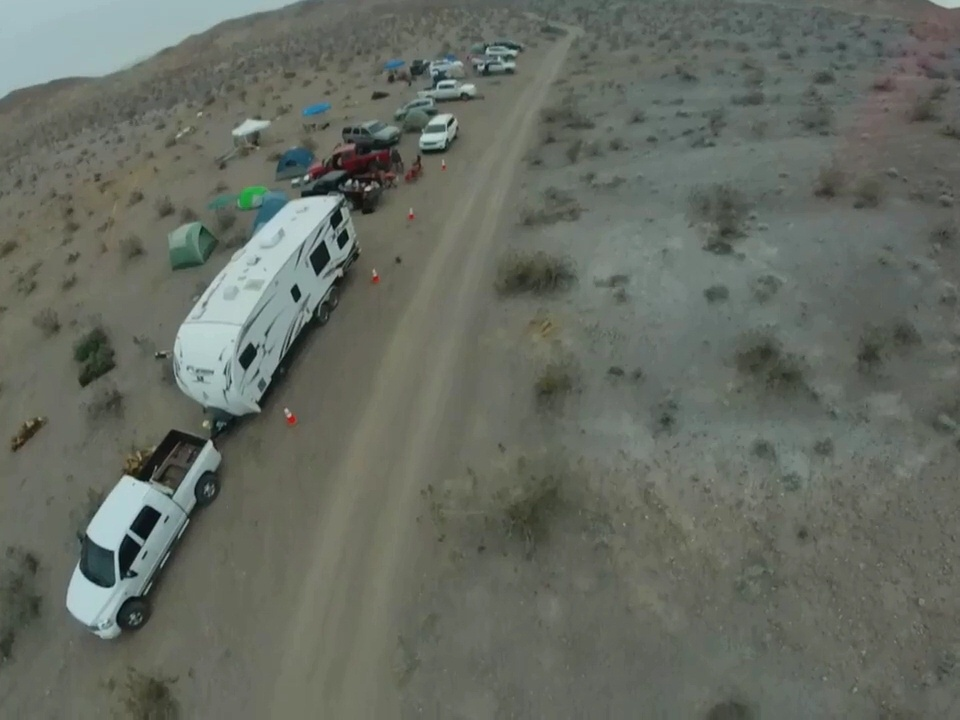araba: (339, 115, 403, 147), (417, 110, 460, 154)
kamyonet: (59, 421, 225, 644), (417, 77, 484, 102)
otobus: (173, 187, 363, 414)
